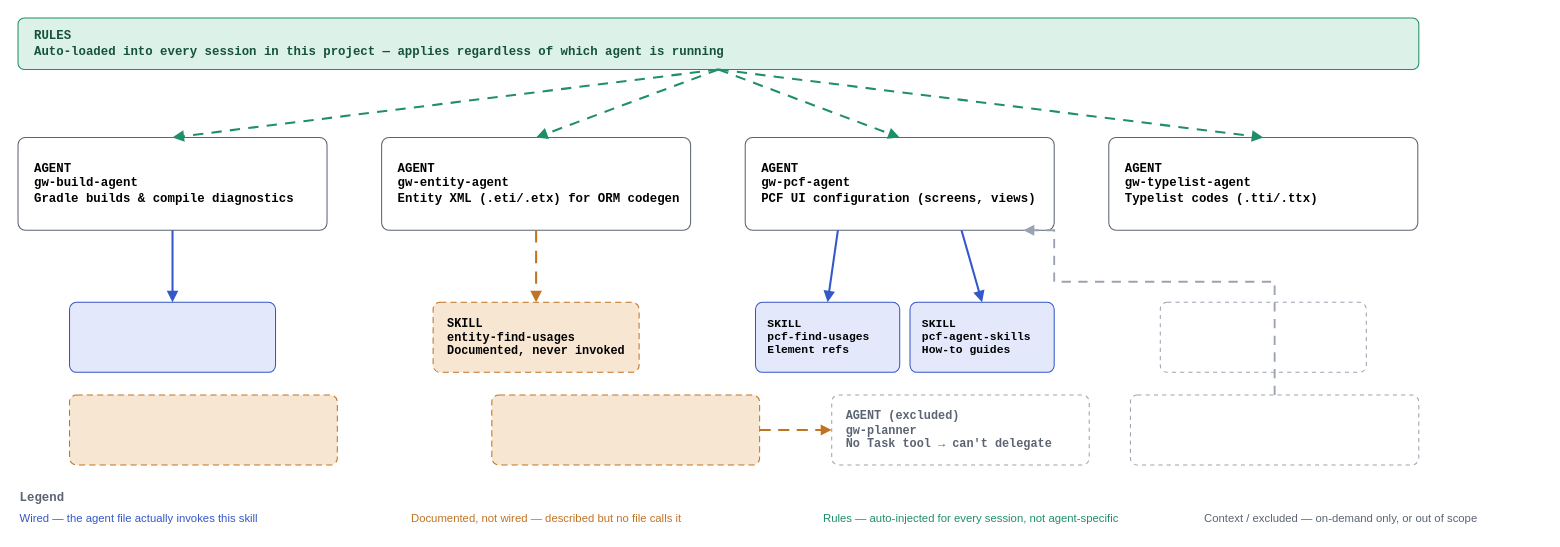
Image size: 1560x547. Some labels were removed from this diagram. Each missing label, with the box of its shape:
CONTEXT /context/pcf Pulled on demand — never preloaded: (1129, 394, 1419, 465)
SKILL gosu-find-usages No gosu agent in this scope: (68, 394, 337, 465)
SKILL pc-current-state Snapshots dev environment: (68, 301, 276, 372)
SKILL pc-plan-lob-removal Generates LOB-removal plan: (491, 394, 760, 465)
— no skill wired —: (1159, 301, 1366, 372)
